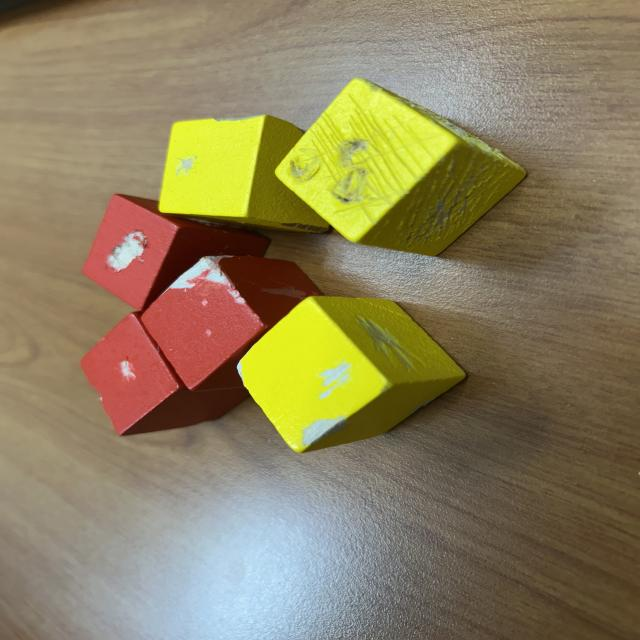broken: (274, 78, 527, 258), (236, 296, 467, 454), (139, 257, 327, 390), (79, 309, 258, 437), (81, 195, 272, 312), (161, 114, 332, 234)
